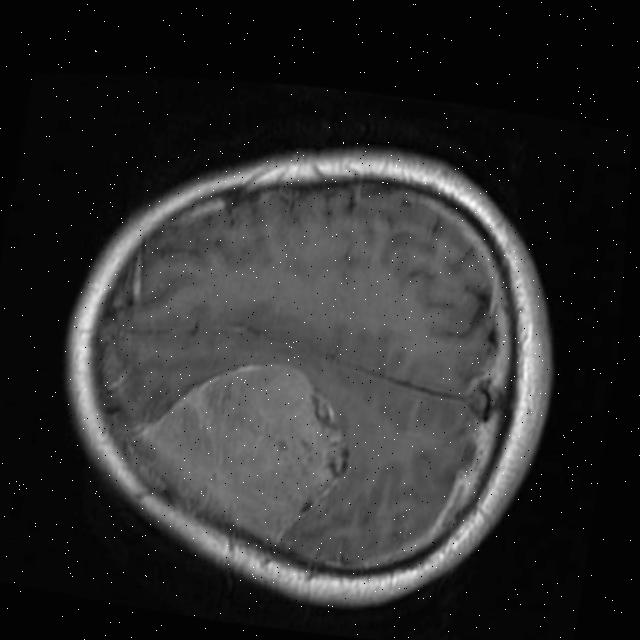Meningioma: (113, 344, 364, 554)
